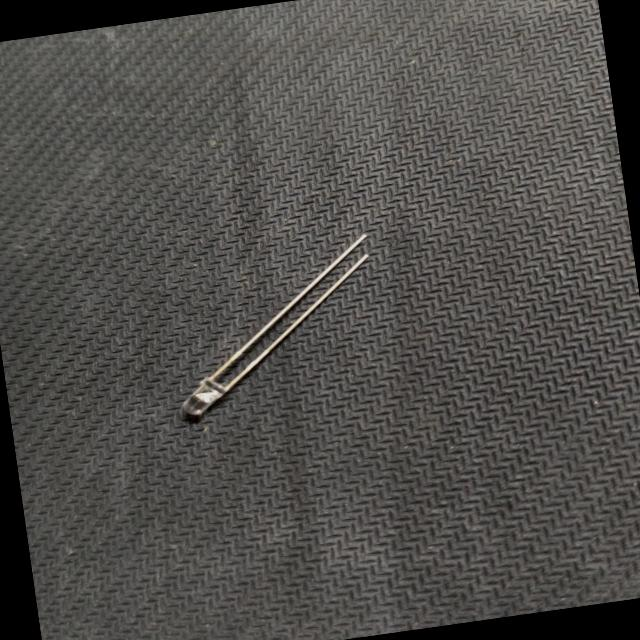led: (145, 222, 402, 432)
